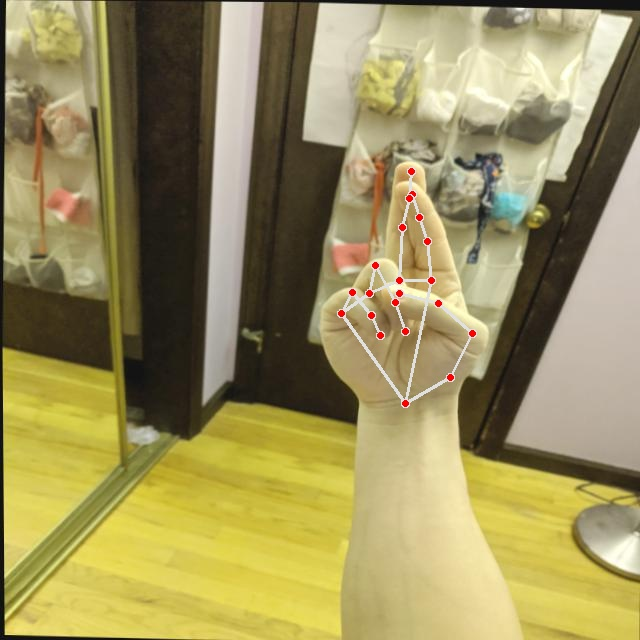R: (308, 153, 498, 413)
